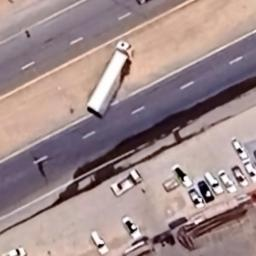SUV: (228, 136, 249, 161)
sedan: (88, 227, 110, 256), (195, 179, 217, 204), (205, 170, 224, 196), (188, 188, 206, 210)
truck: (84, 38, 134, 118), (108, 167, 146, 197), (1, 240, 28, 256)
unknown: (169, 165, 194, 188), (229, 164, 250, 190)
